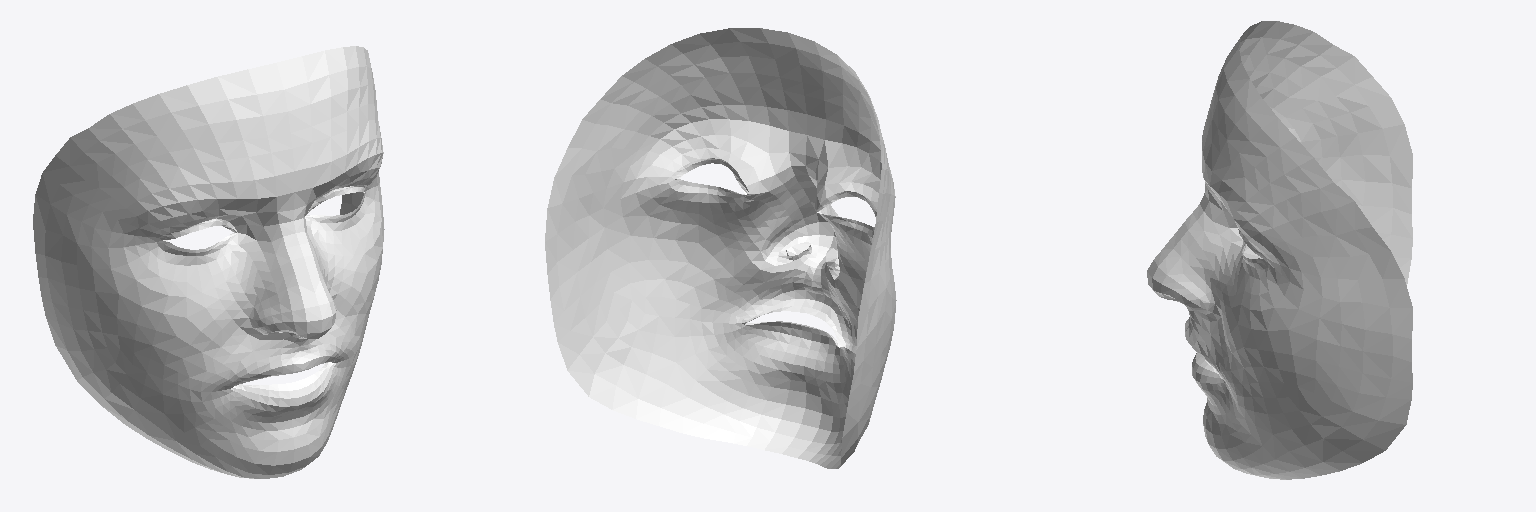
File: mouthShrugUpper.obj
3 renders of one model, left to right at view 1: azimuth 30°, elevation 25°; view 2: azimuth 150°, elevation 25°; view 3: azimuth 270°, elevation 25°, orthographic.
Parts seen in each view (by area): view 1: default; view 2: default; view 3: default.
Part boxes in pixels (left/top/right/bottom): default: left=33, top=46, right=384, bottom=478; default: left=545, top=28, right=896, bottom=468; default: left=1147, top=21, right=1412, bottom=479.
Size of the model in its own units: 0.1447 by 0.182 by 0.1054.